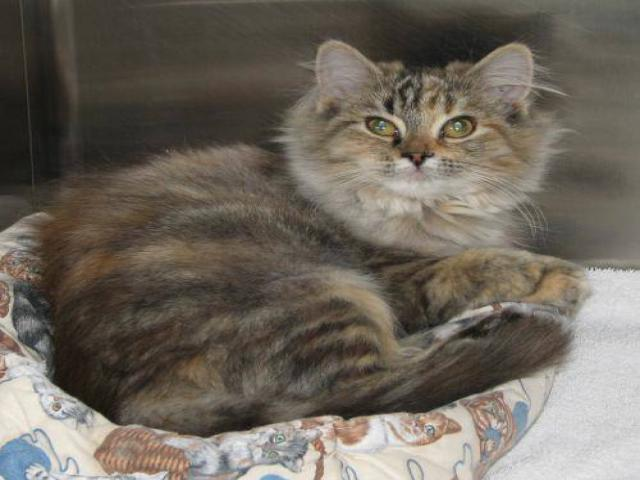cat: (32, 28, 587, 438)
